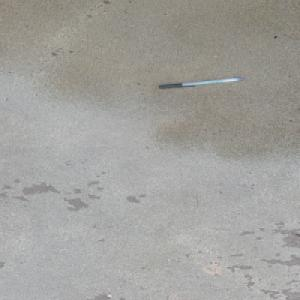Pen: (158, 76, 244, 89)
